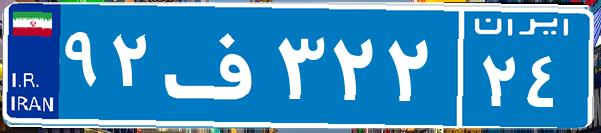2: (385, 28, 445, 110), (330, 28, 385, 110), (475, 38, 525, 113), (110, 28, 158, 105)
3: (273, 28, 330, 110)
4: (525, 38, 570, 115)
9: (57, 26, 110, 107)
ف: (158, 15, 273, 115)
